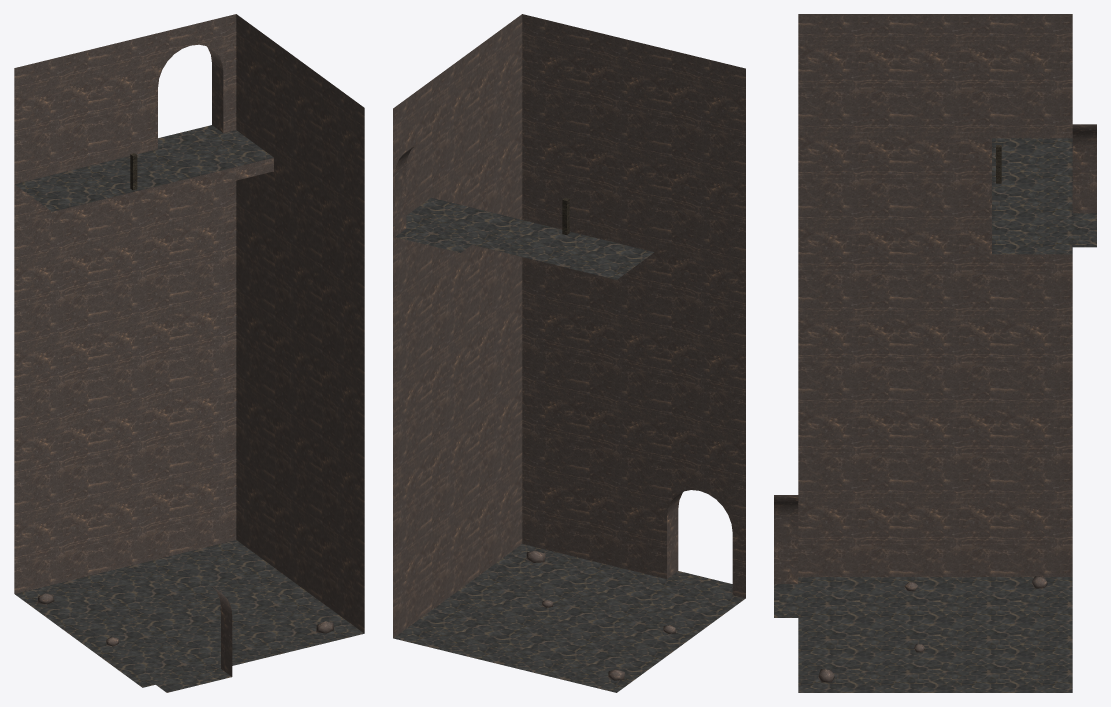
The model's file is drop-hall.6b32a6b3.gltf.
The picture shows the model from 3 angles, left to right: view 1: azimuth 30°, elevation 25°; view 2: azimuth 150°, elevation 25°; view 3: azimuth 270°, elevation 25°; orthographic projection. The views are drawn at different scales.
Visible parts, largest first — view 1: drop-hall-mesh; view 2: drop-hall-mesh; view 3: drop-hall-mesh.
Part boxes in pixels (x1,y1,x2,y2): drop-hall-mesh: (14,14,364,692); drop-hall-mesh: (393,14,745,692); drop-hall-mesh: (774,14,1096,692).
Bounding box in the file's own units: 6.8 × 15.49 × 8.
3 materials, 3 textured.
